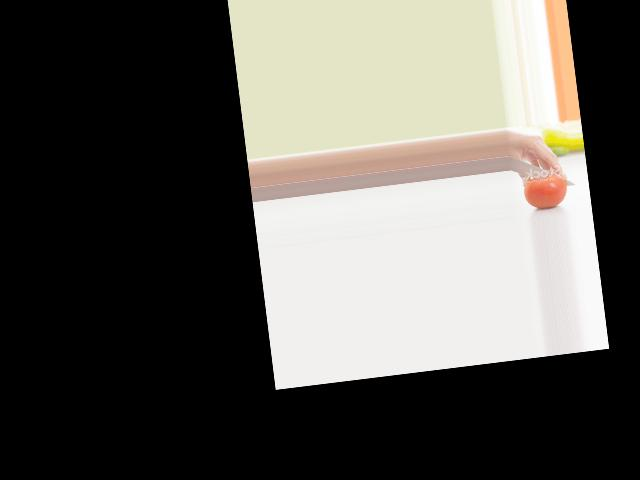tomato: (521, 172, 569, 211)
